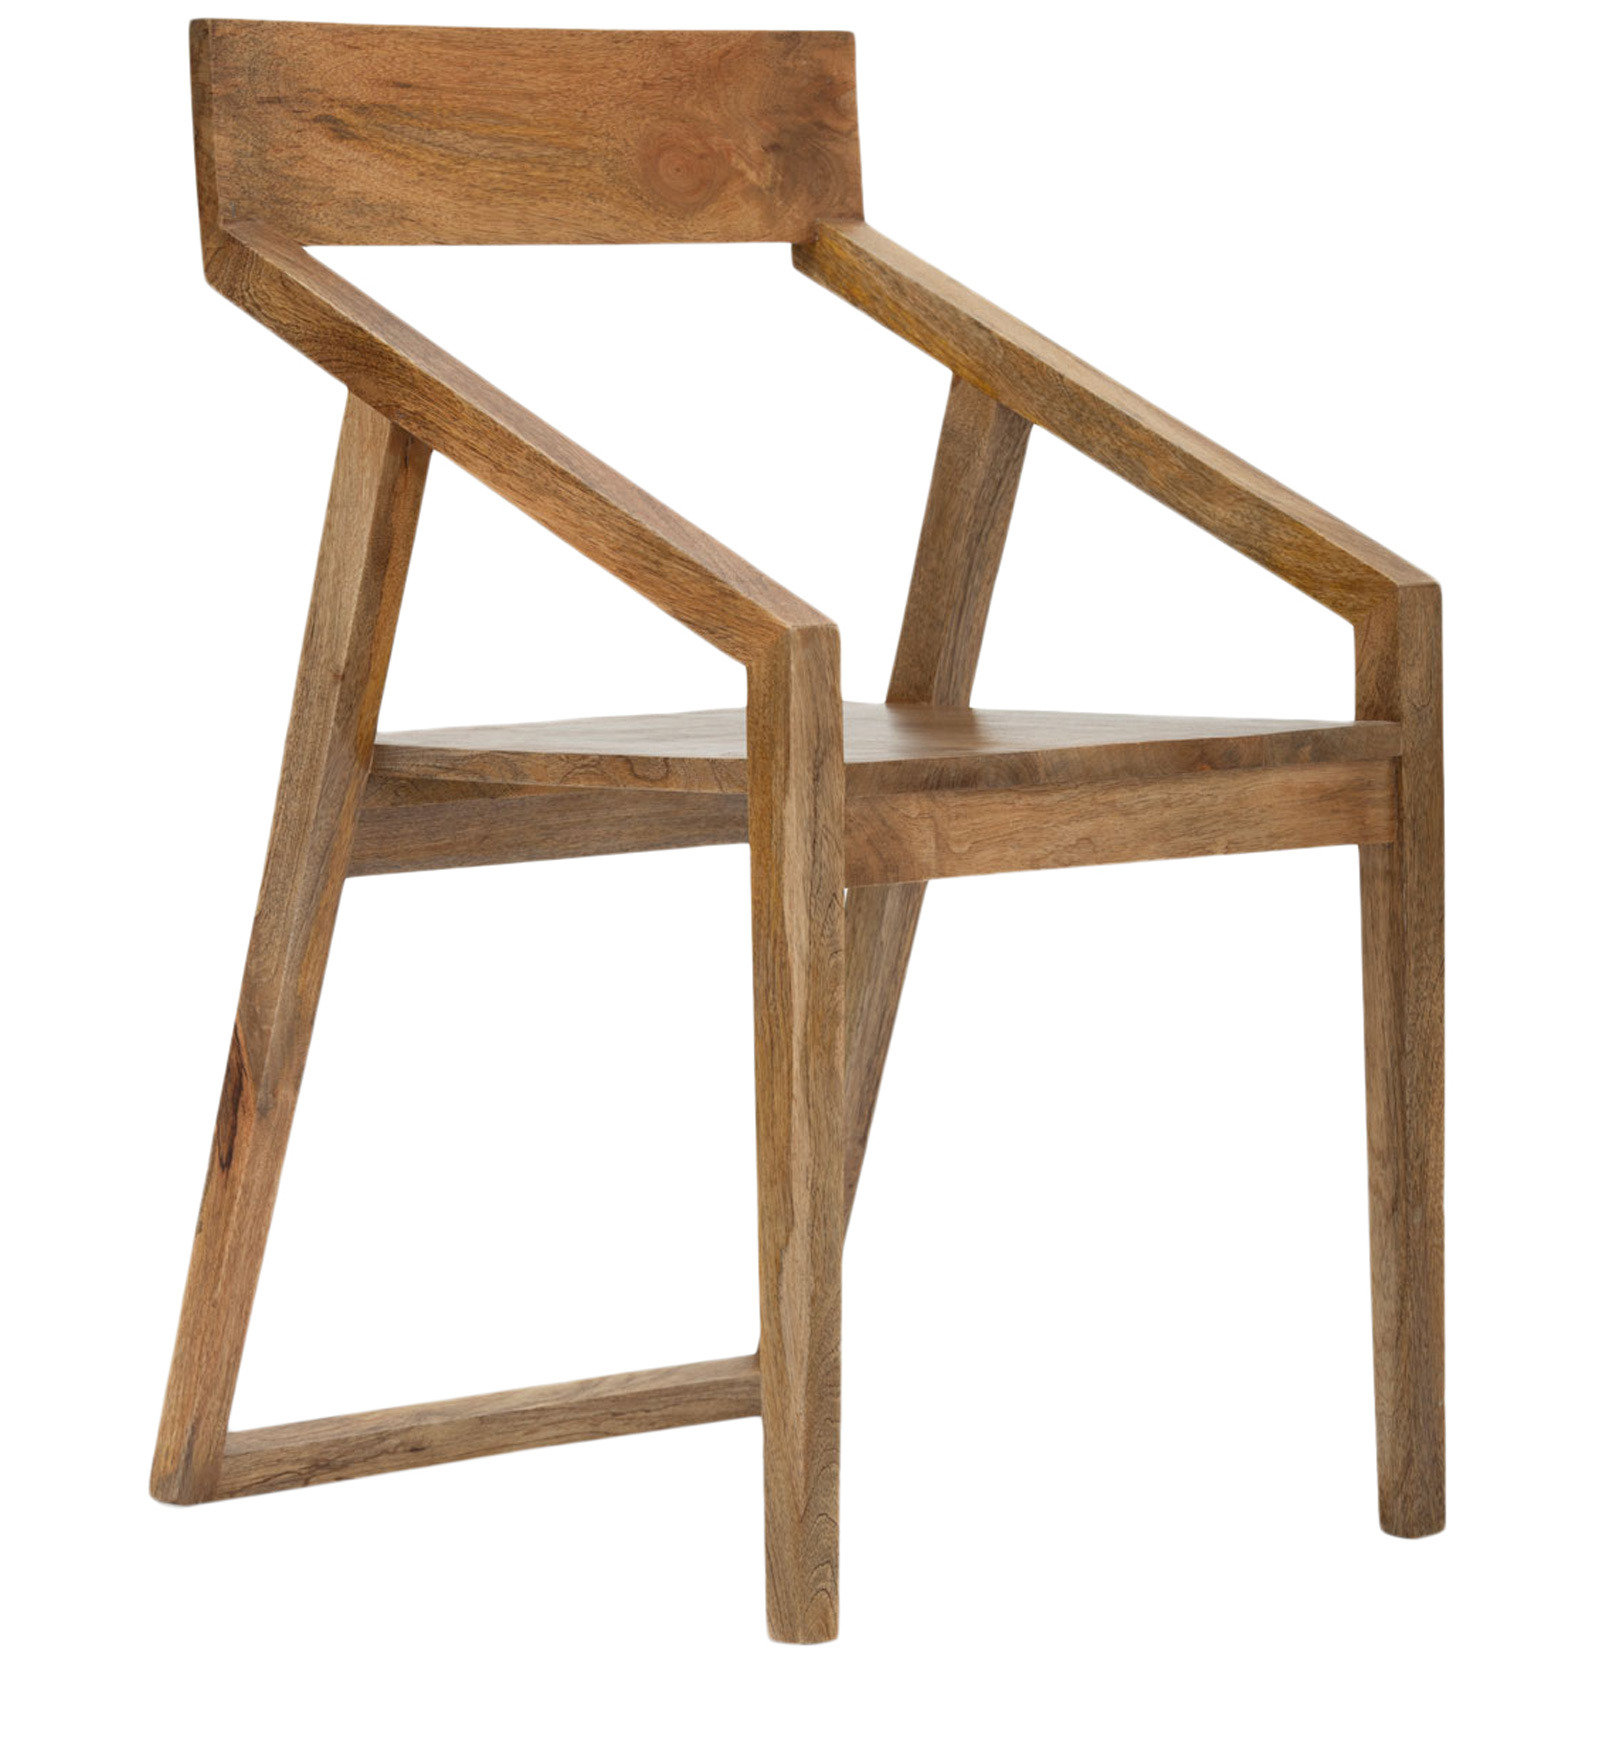Dulwich Solid Wood Arm Chair in Natural Finish by TheArmchair: (90, 9, 1514, 1627)
